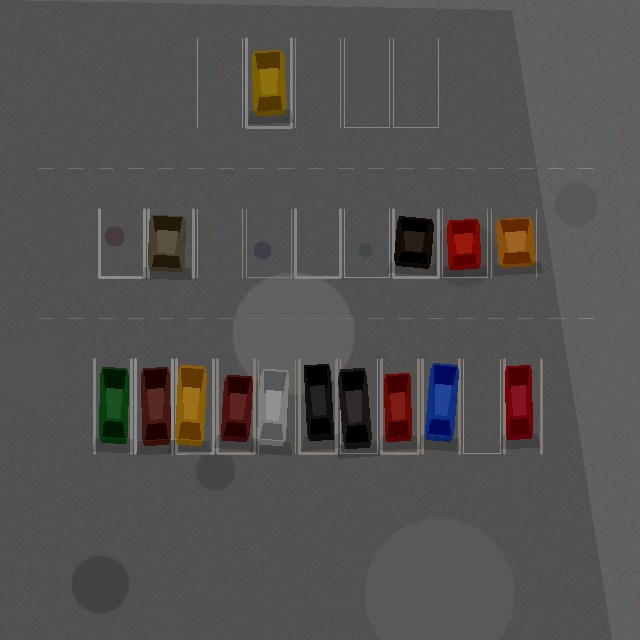space-empty: (197, 38, 242, 127), (295, 38, 340, 127), (344, 38, 389, 127), (393, 38, 438, 127), (463, 359, 500, 453), (99, 209, 144, 277), (197, 209, 242, 277), (246, 209, 291, 277), (295, 209, 340, 277), (344, 209, 389, 277)
space-occupied: (246, 38, 291, 127), (94, 359, 131, 453), (135, 359, 172, 453), (176, 359, 213, 453), (217, 359, 254, 453), (258, 359, 295, 453), (299, 359, 336, 453), (340, 359, 377, 453), (381, 359, 418, 453), (422, 359, 459, 453), (504, 359, 541, 453), (148, 209, 193, 277), (393, 209, 438, 277), (442, 209, 487, 277), (491, 209, 536, 277)
